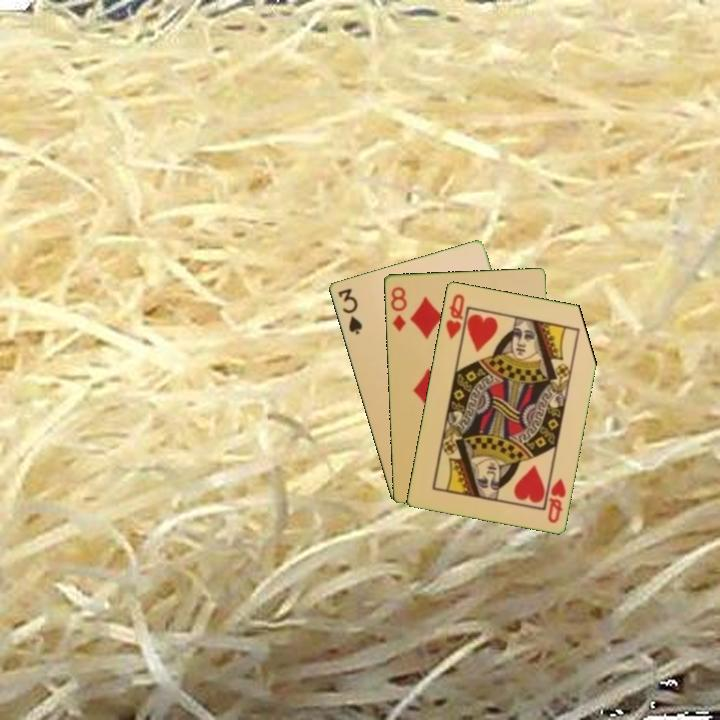3s: (334, 285, 365, 337)
8d: (387, 283, 409, 334)
Qh: (442, 290, 467, 342), (544, 474, 569, 526)
